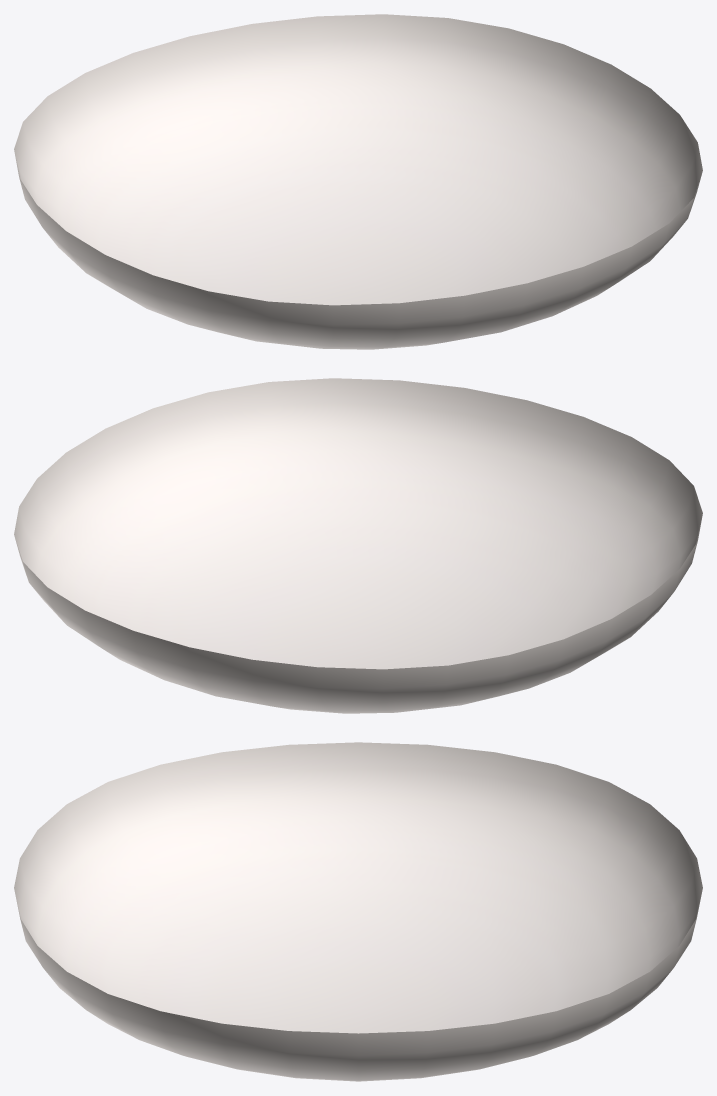
The model's file is Doll_OB_Lamp_003.fbx.
3 renders of one model, top to bottom at view 1: azimuth 30°, elevation 25°; view 2: azimuth 150°, elevation 25°; view 3: azimuth 270°, elevation 25°, orthographic. The views are drawn at different scales.
Visible parts, largest first — view 1: Doll_OB_Lamp_003; view 2: Doll_OB_Lamp_003; view 3: Doll_OB_Lamp_003.
Boxes of the visible parts, left/top/right/bottom form: Doll_OB_Lamp_003: left=14, top=14, right=702, bottom=349; Doll_OB_Lamp_003: left=14, top=378, right=702, bottom=713; Doll_OB_Lamp_003: left=14, top=742, right=702, bottom=1081.
Size of the model in its own units: 18.65 by 3.6 by 18.65.
1 material, 1 textured.
